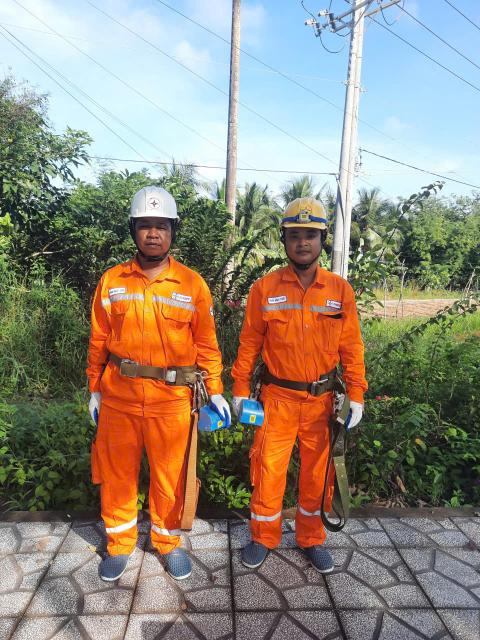gloves: (82, 387, 109, 430), (205, 392, 233, 427), (345, 394, 363, 432), (229, 391, 249, 419)
harness: (97, 336, 205, 396), (247, 352, 350, 406)
helmet: (107, 179, 186, 225), (275, 197, 333, 238)
shoes: (151, 539, 204, 578), (237, 522, 275, 575), (293, 533, 335, 579), (98, 543, 139, 583)
